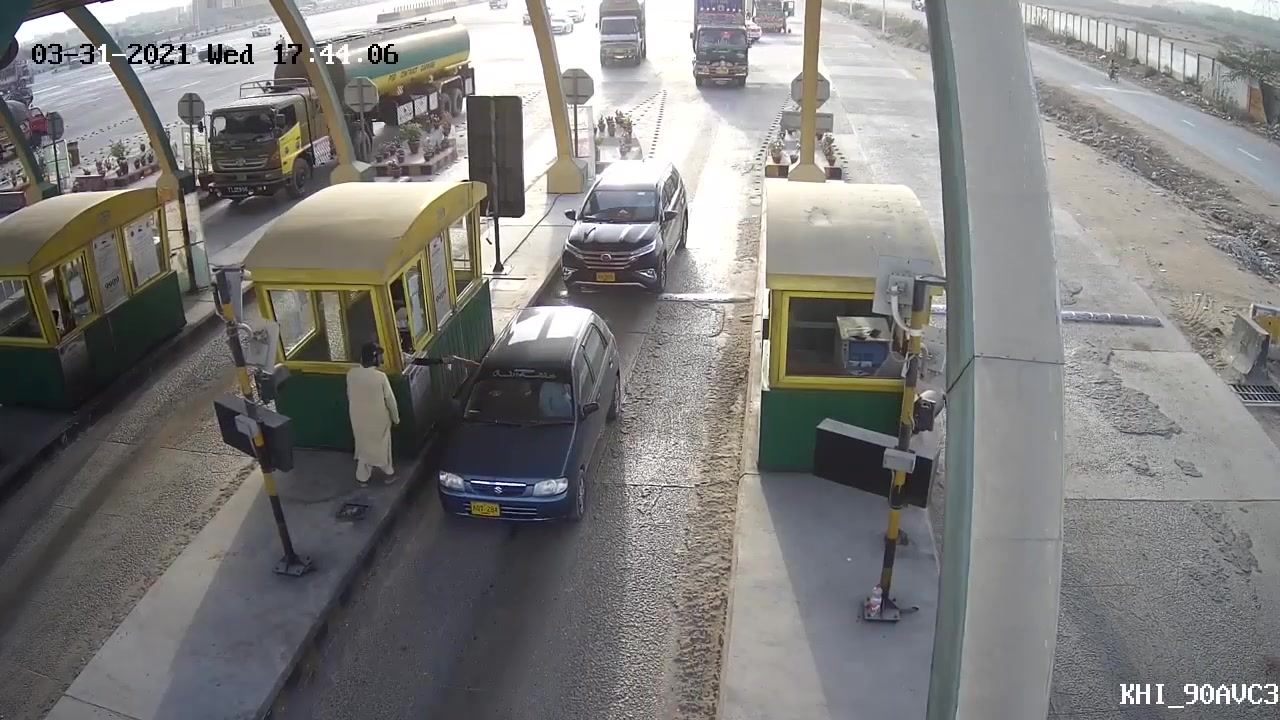F1: (433, 305, 621, 532), (551, 155, 694, 298)
